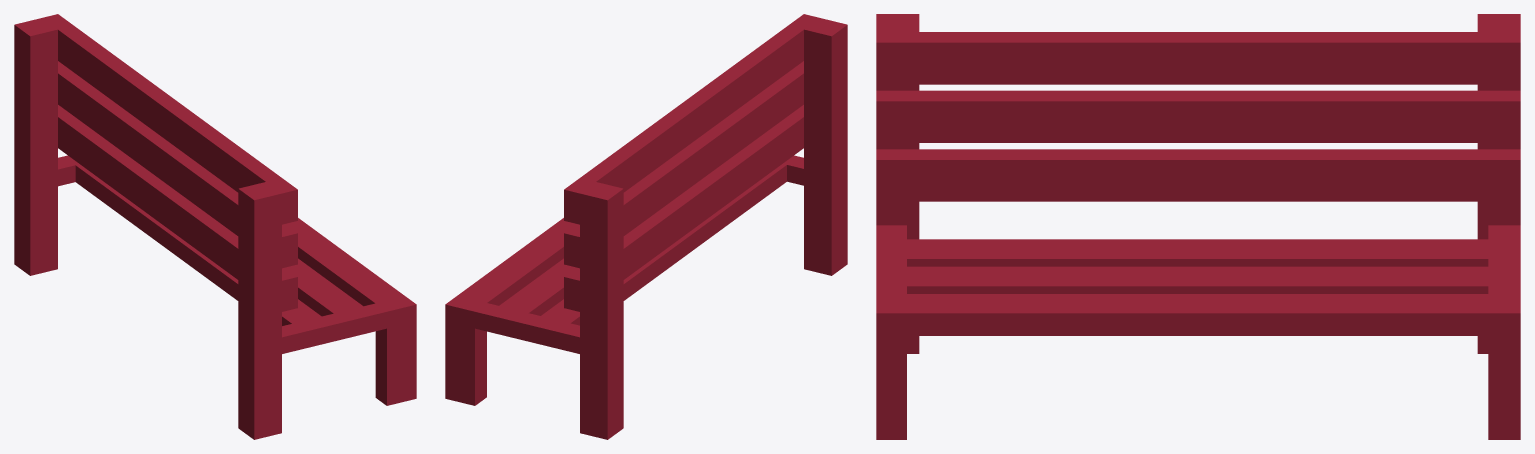
File: Bench.fbx
3 views of the same model, side by side, from view 1: azimuth 30°, elevation 25°; view 2: azimuth 150°, elevation 25°; view 3: azimuth 270°, elevation 25° (orthographic). The views are drawn at different scales.
Parts seen in each view (by area): view 1: Cube.090; view 2: Cube.090; view 3: Cube.090.
Boxes of the visible parts, <box> form: Cube.090: <box>14,14,416,439</box>; Cube.090: <box>445,14,847,439</box>; Cube.090: <box>876,14,1520,439</box>.
Bounding box in the file's own units: 155 × 218 × 396.
